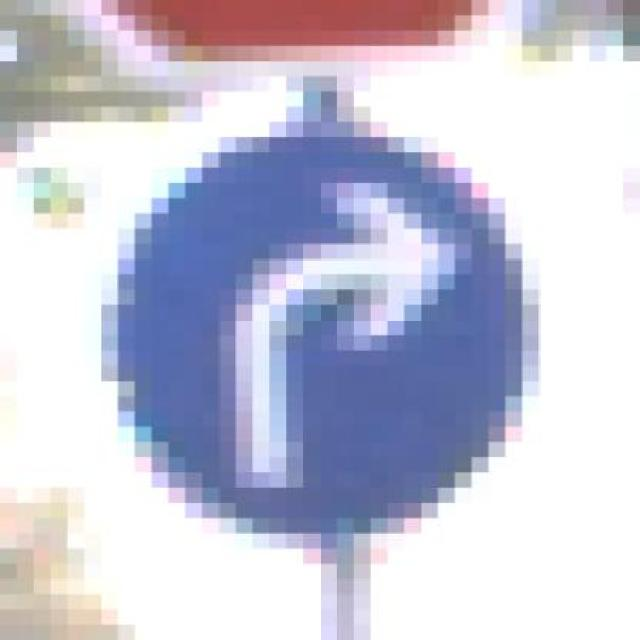Turn right ahead: (84, 107, 590, 548)
